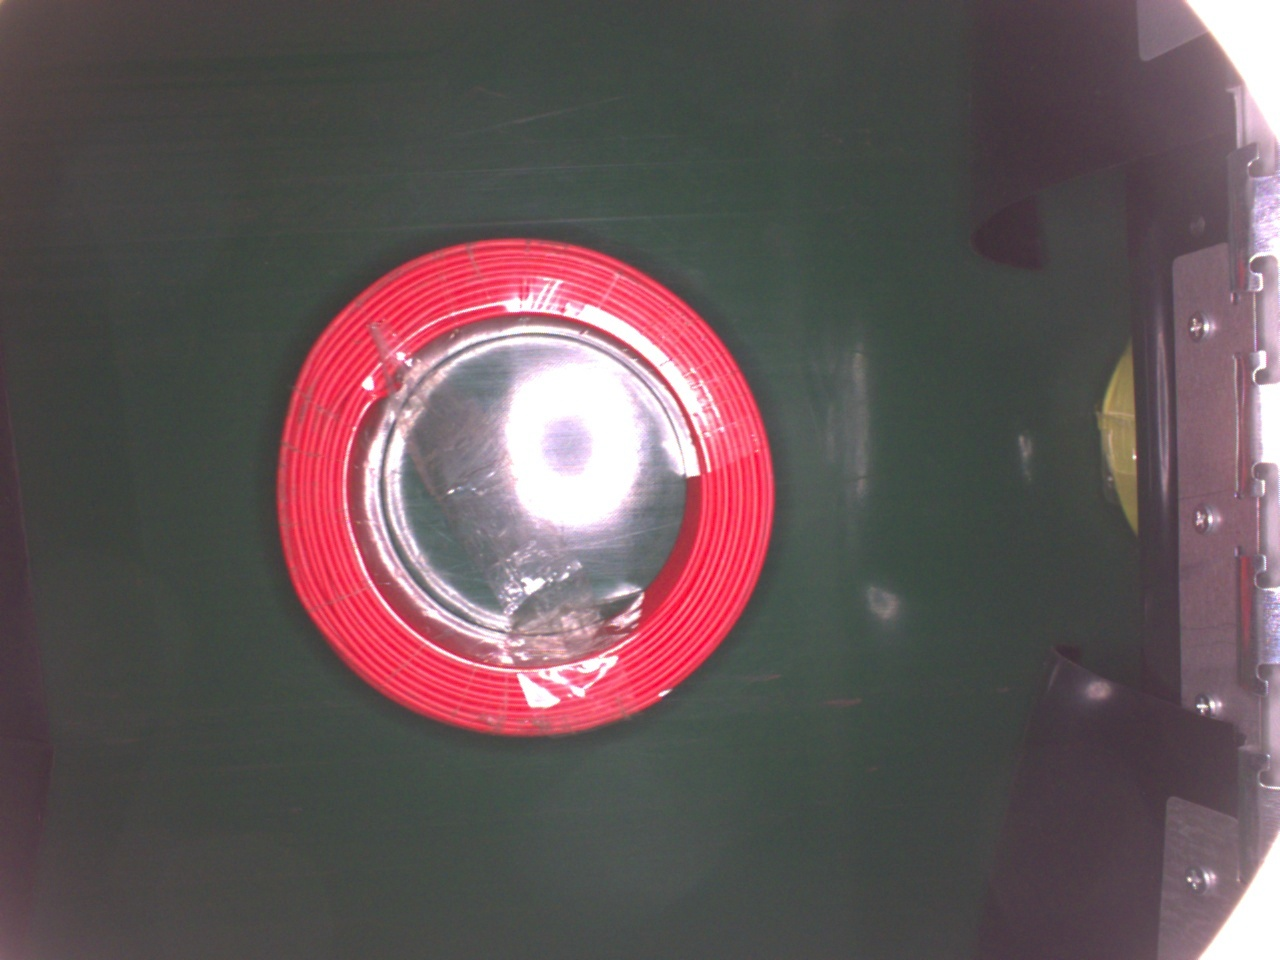red: (271, 235, 777, 741)
